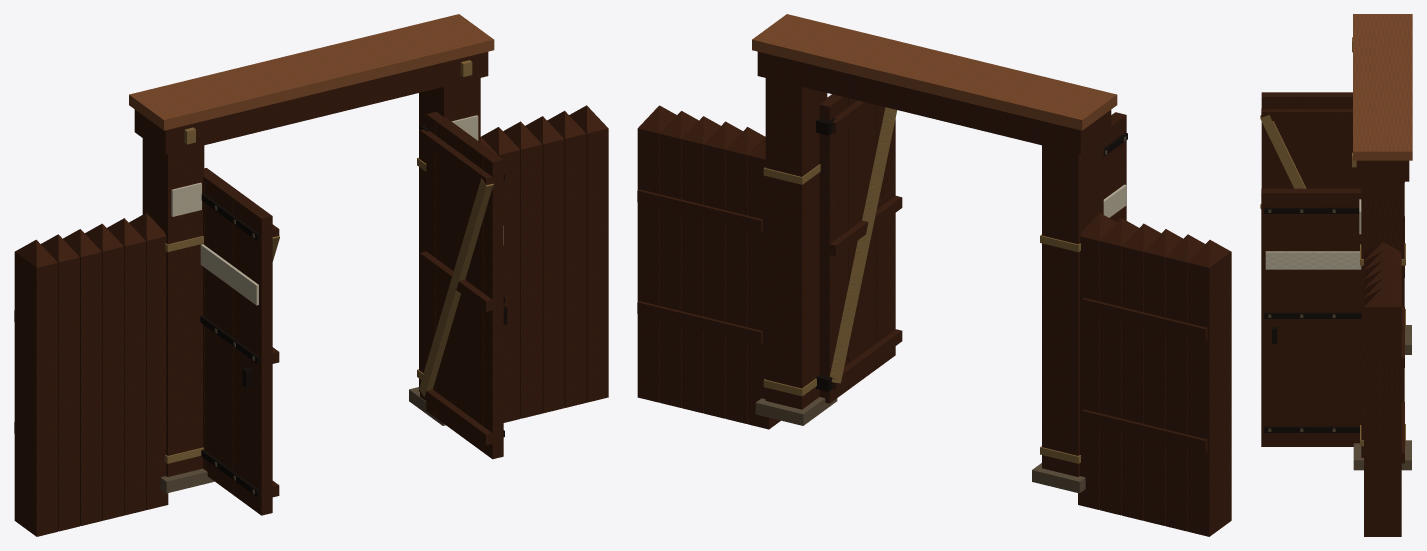
The model's file is Berber_PalisadeGate_Age1_Open.fbx.
3 views of the same model, side by side, from view 1: azimuth 30°, elevation 25°; view 2: azimuth 150°, elevation 25°; view 3: azimuth 270°, elevation 25° (orthographic). The views are drawn at different scales.
Visible parts, largest first — view 1: lintel_earth_weather_cap, left_palisade_stake_5, left_palm_gatepost, mortised_palm_lintel, left_palisade_stake_2, right_palisade_stake_4, right_palisade_stake_5, left_palisade_stake_1, right_palisade_stake_2, right_palisade_stake_3, left_palisade_stake_3, left_palisade_stake_4 (+23 smaller); view 2: right_palm_gatepost, lintel_earth_weather_cap, left_palm_gatepost, left_palisade_stake_5, mortised_palm_lintel, right_palisade_stake_5, right_palisade_stake_2, right_palisade_stake_3, right_palisade_stake_4, right_palisade_stake_1, left_palisade_stake_4, left_palisade_stake_1 (+21 smaller); view 3: right_palisade_stake_5, lintel_earth_weather_cap, right_door_plank_6, right_palm_gatepost, right_door_plank_2, right_door_plank_4, right_door_plank_5, right_door_plank_1, right_door_plank_3, right_owner_leaf_stripe, left_door_plank_2, left_door_plank_3 (+20 smaller).
Boxes of the visible parts, x1=… form: lintel_earth_weather_cap: x1=129, y1=14, x2=494, y2=130; left_palisade_stake_5: x1=14, y1=239, x2=57, y2=536; left_palm_gatepost: x1=142, y1=138, x2=204, y2=476; mortised_palm_lintel: x1=134, y1=52, x2=488, y2=154; left_palisade_stake_2: x1=85, y1=223, x2=124, y2=520; right_palisade_stake_4: x1=547, y1=110, x2=586, y2=407; right_palisade_stake_5: x1=569, y1=105, x2=608, y2=402; left_palisade_stake_1: x1=107, y1=218, x2=146, y2=515; right_palisade_stake_2: x1=503, y1=121, x2=542, y2=418; right_palisade_stake_3: x1=525, y1=116, x2=564, y2=413; left_palisade_stake_3: x1=63, y1=229, x2=102, y2=525; left_palisade_stake_4: x1=41, y1=234, x2=79, y2=531; right_palm_gatepost: x1=765, y1=78, x2=827, y2=409; lintel_earth_weather_cap: x1=752, y1=14, x2=1117, y2=130; left_palm_gatepost: x1=1042, y1=138, x2=1103, y2=476; left_palisade_stake_5: x1=1188, y1=240, x2=1231, y2=536; mortised_palm_lintel: x1=757, y1=51, x2=1111, y2=154; right_palisade_stake_5: x1=637, y1=105, x2=676, y2=402; right_palisade_stake_2: x1=703, y1=121, x2=742, y2=418; right_palisade_stake_3: x1=681, y1=116, x2=720, y2=413; right_palisade_stake_4: x1=659, y1=111, x2=698, y2=407; right_palisade_stake_1: x1=725, y1=127, x2=764, y2=423; left_palisade_stake_4: x1=1166, y1=234, x2=1205, y2=531; left_palisade_stake_1: x1=1100, y1=218, x2=1138, y2=515; right_palisade_stake_5: x1=1364, y1=287, x2=1401, y2=536; lintel_earth_weather_cap: x1=1353, y1=14, x2=1412, y2=160; right_door_plank_6: x1=1261, y1=188, x2=1277, y2=446; right_palm_gatepost: x1=1361, y1=181, x2=1404, y2=457; right_door_plank_2: x1=1326, y1=188, x2=1342, y2=446; right_door_plank_4: x1=1293, y1=188, x2=1309, y2=446; right_door_plank_5: x1=1277, y1=188, x2=1293, y2=446; right_door_plank_1: x1=1342, y1=188, x2=1358, y2=446; right_door_plank_3: x1=1310, y1=188, x2=1325, y2=446; right_owner_leaf_stripe: x1=1265, y1=251, x2=1361, y2=269; left_door_plank_2: x1=1326, y1=92, x2=1342, y2=188; left_door_plank_3: x1=1310, y1=92, x2=1325, y2=188.
Bounding box in the file's own units: 1018 × 667 × 275.
Materials: 6 (6 with a texture image).
